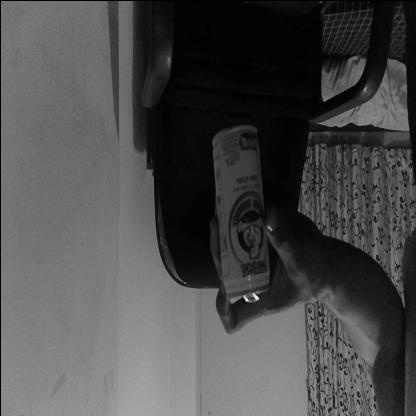alumunium_can: (210, 121, 268, 308)
